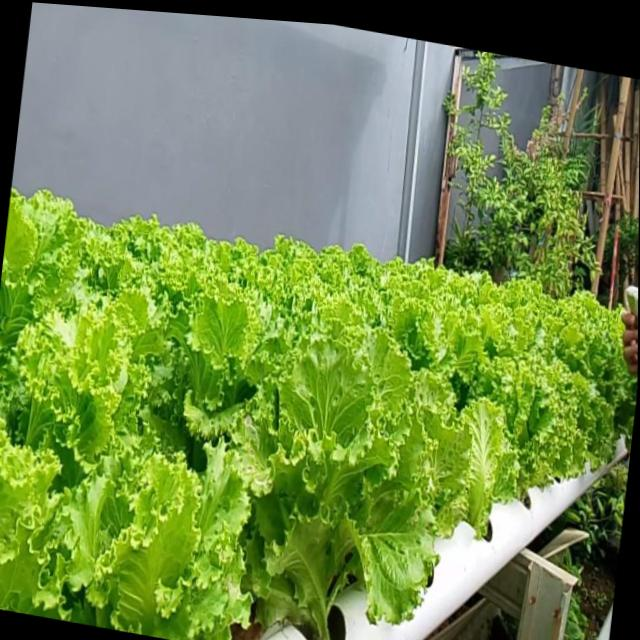Mature: (239, 336, 468, 640), (484, 349, 595, 506)
